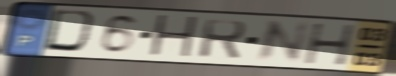6: (97, 14, 140, 56)
D: (41, 7, 102, 56)
H: (146, 13, 201, 61), (303, 22, 358, 67)
N: (252, 19, 313, 64)
R: (196, 18, 249, 61)
